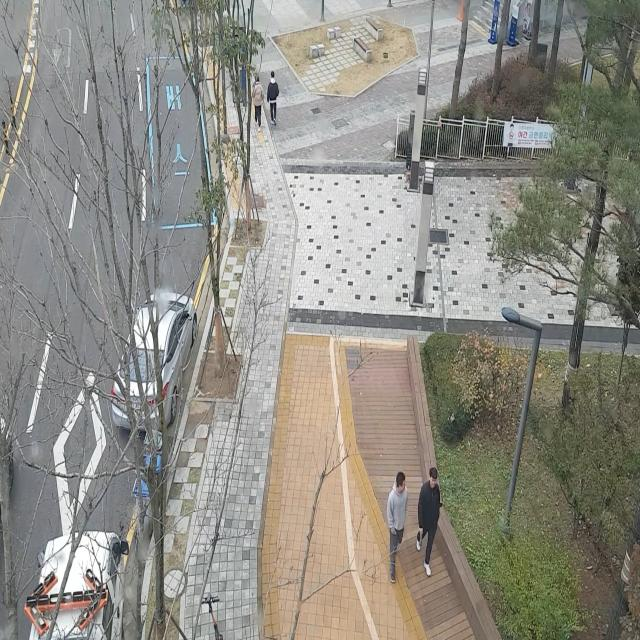Car: (90, 266, 208, 463)
Truck: (10, 492, 137, 640)
